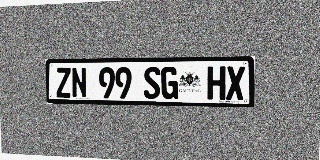9: (115, 67, 132, 99), (99, 67, 115, 98)
G: (161, 67, 178, 99)
H: (207, 66, 226, 100)
N: (71, 67, 87, 98)
S: (143, 67, 160, 99)
X: (226, 66, 245, 100)
Z: (56, 67, 71, 98)
